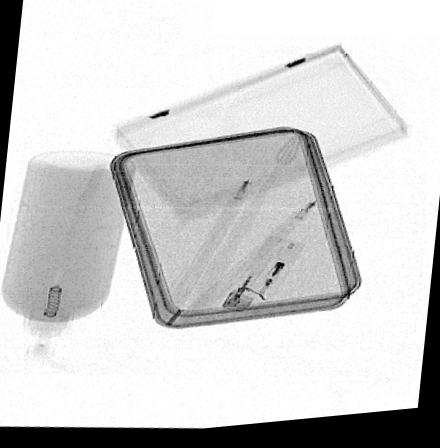Lighter: (219, 240, 306, 318)
